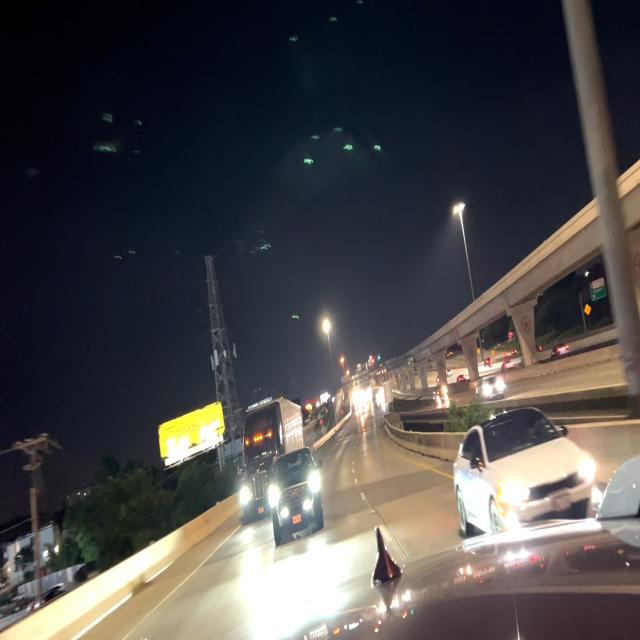back-of-sign: (383, 354, 407, 379)
